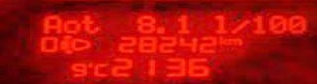-: (153, 25, 165, 33)
0: (267, 14, 287, 33), (287, 13, 305, 34), (37, 35, 57, 52)
1: (250, 13, 266, 33), (175, 13, 189, 33), (145, 57, 156, 75)
2: (108, 57, 132, 76), (198, 35, 218, 52), (115, 35, 135, 52), (157, 36, 176, 53)
3: (163, 57, 185, 77)
4: (178, 36, 198, 52)
6: (186, 57, 207, 76)
8: (135, 13, 155, 33), (138, 35, 156, 52)
9: (69, 62, 85, 76)
X: (78, 13, 98, 33), (41, 13, 61, 33), (212, 13, 229, 33), (229, 18, 249, 33), (61, 19, 81, 33), (91, 61, 109, 76), (226, 37, 241, 44), (217, 36, 227, 45)
